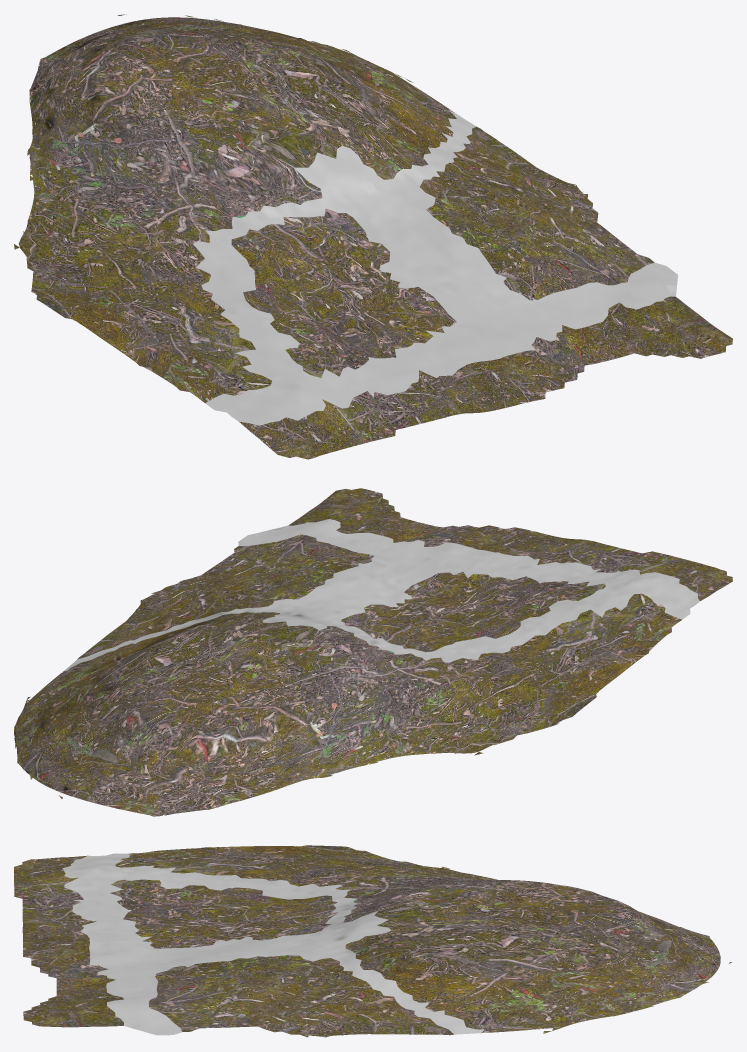
Rendered from Field5.fbx.
3 views of the same model, one above another, from view 1: azimuth 30°, elevation 25°; view 2: azimuth 150°, elevation 25°; view 3: azimuth 270°, elevation 25° (orthographic). The views are drawn at different scales.
Visible parts, largest first — view 1: LV_Campagna_Mountain_SM_HSH; view 2: LV_Campagna_Mountain_SM_HSH; view 3: LV_Campagna_Mountain_SM_HSH.
Boxes of the visible parts, <box> form: LV_Campagna_Mountain_SM_HSH: <box>14,14,732,459</box>; LV_Campagna_Mountain_SM_HSH: <box>14,488,732,816</box>; LV_Campagna_Mountain_SM_HSH: <box>14,845,731,1037</box>.
Size of the model in its own units: 1.13e+10 by 1.33e+09 by 1.81e+10.
